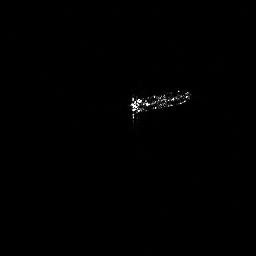ship: (131, 88, 188, 112)
